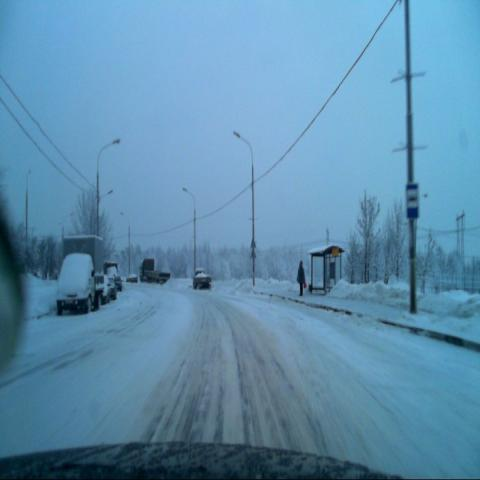5_16: (404, 182, 420, 218)
